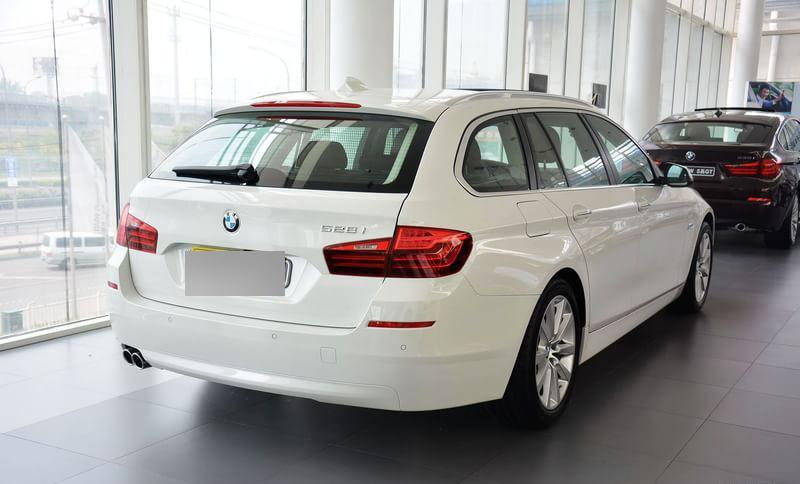Wagon: (105, 74, 717, 430)
